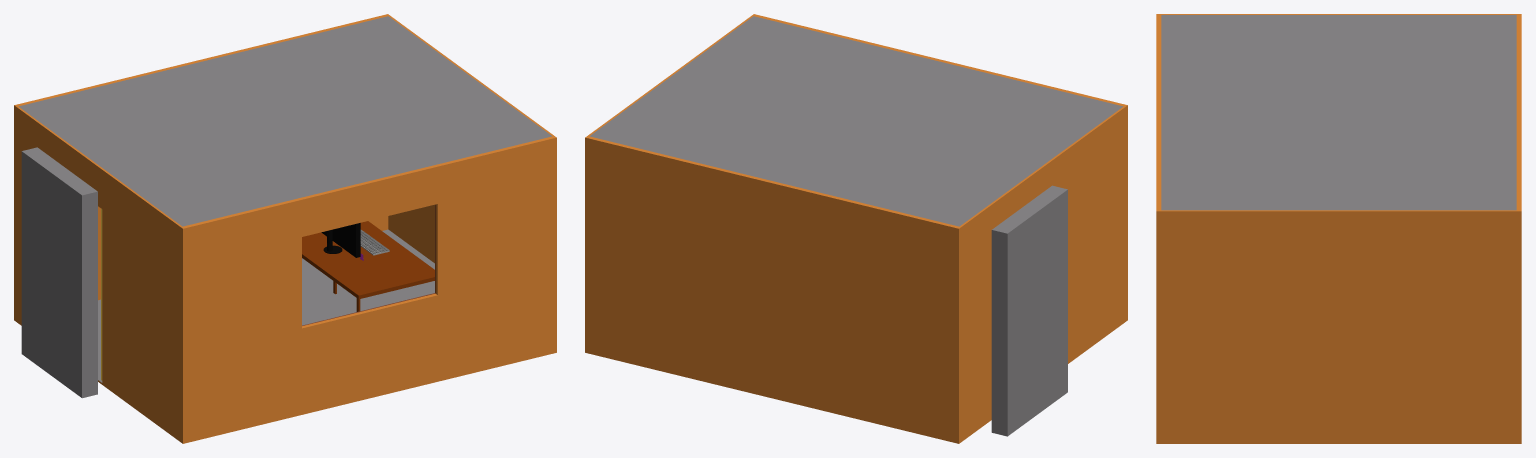
File: Habitacion (1).fbx
3 renders of one model, left to right at view 1: azimuth 30°, elevation 25°; view 2: azimuth 150°, elevation 25°; view 3: azimuth 270°, elevation 25°, orthographic. The views are drawn at different scales.
Visible parts, largest first — view 1: Habitacion, Fondo, Mesa, Pantalla; view 2: Habitacion, Fondo; view 3: Habitacion.
Part boxes in pixels (x1,y1,x2,y2): Habitacion: [14, 14, 556, 443]; Fondo: [21, 147, 97, 398]; Mesa: [302, 221, 434, 311]; Pantalla: [321, 223, 360, 257]; Habitacion: [585, 14, 1127, 443]; Fondo: [991, 185, 1067, 436]; Habitacion: [1156, 14, 1521, 443].
Bounding box in the file's own units: 3258 × 1763 × 2416.
